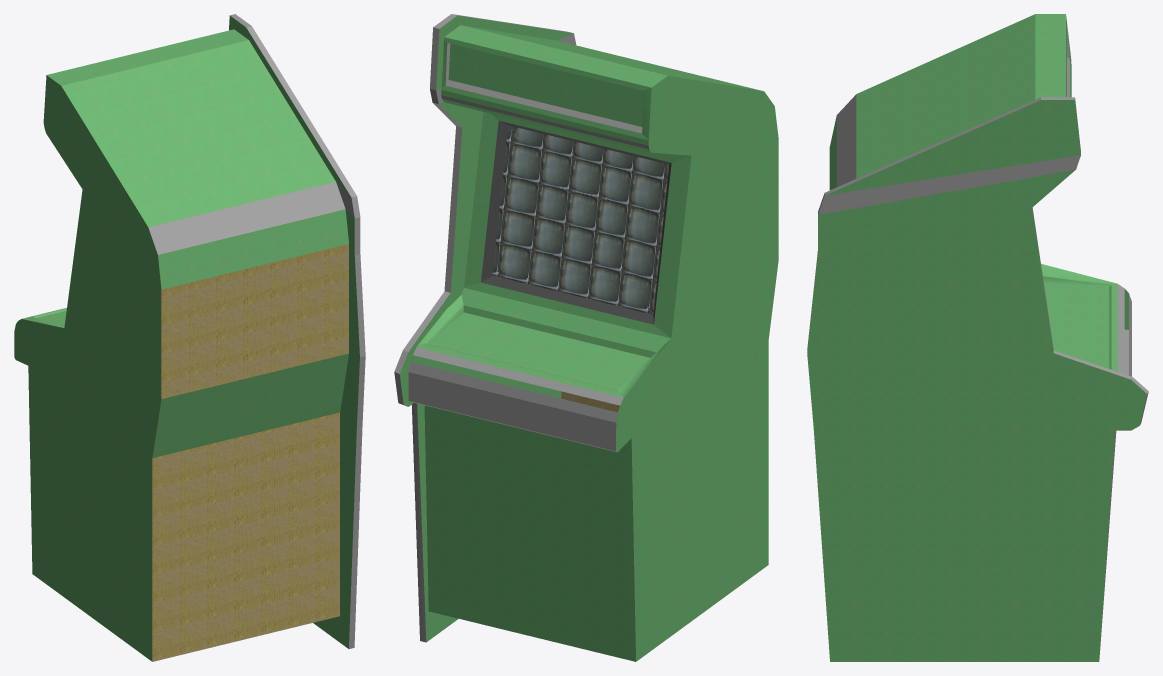
The picture shows the model from 3 angles, left to right: view 1: azimuth 30°, elevation 25°; view 2: azimuth 150°, elevation 25°; view 3: azimuth 270°, elevation 25°; orthographic projection. The views are drawn at different scales.
Parts seen in each view (by area): view 1: Centro, Aleta Izquierda; view 2: Centro, Aleta Izquierda; view 3: Aleta Izquierda, Centro.
Part boxes in pixels (<box>): Centro: <box>14,29,348,661</box>; Aleta Izquierda: <box>229,14,365,648</box>; Centro: <box>408,25,778,661</box>; Aleta Izquierda: <box>394,14,576,642</box>; Aleta Izquierda: <box>807,97,1148,661</box>; Centro: <box>829,14,1131,376</box>.
Size of the model in its own units: 712 by 1925 by 1061.
